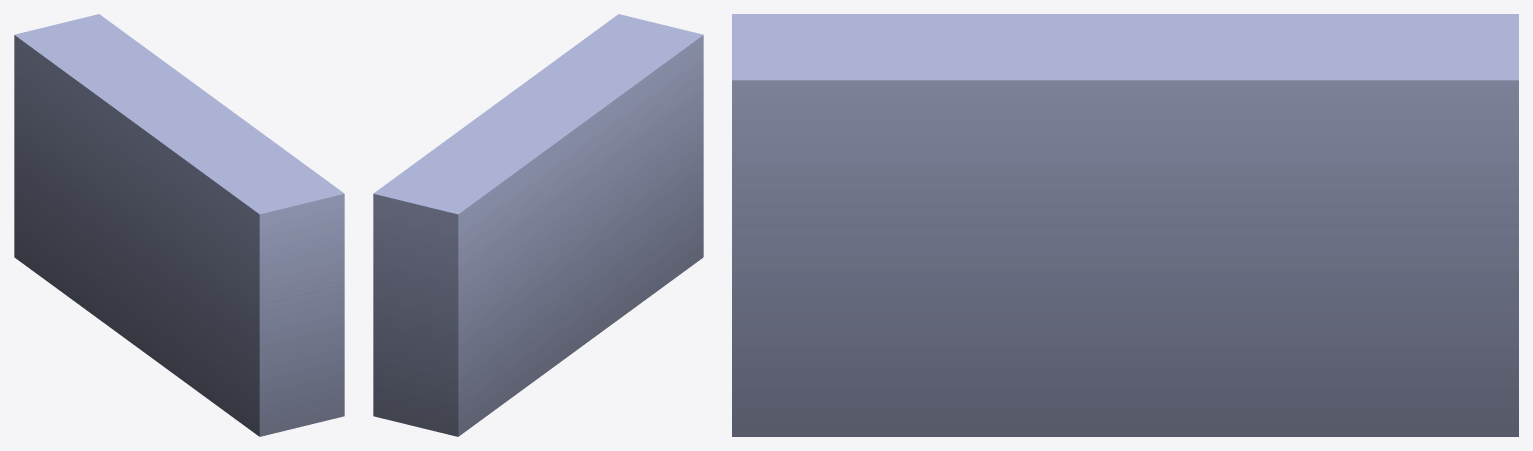
File: wall-low.fbx
3 views of the same model, side by side, from view 1: azimuth 30°, elevation 25°; view 2: azimuth 150°, elevation 25°; view 3: azimuth 270°, elevation 25° (orthographic). The views are drawn at different scales.
Visible parts, largest first — view 1: wall-low; view 2: wall-low; view 3: wall-low.
Boxes of the visible parts, x1,y1,x2,y2 form: wall-low: [14, 14, 344, 436]; wall-low: [373, 14, 703, 436]; wall-low: [732, 14, 1518, 436].
Bounding box in the file's own units: 20 × 50 × 100.
